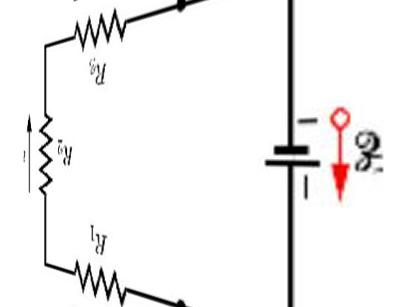resistor: (59, 257, 138, 303), (64, 5, 131, 51), (31, 107, 58, 198)
